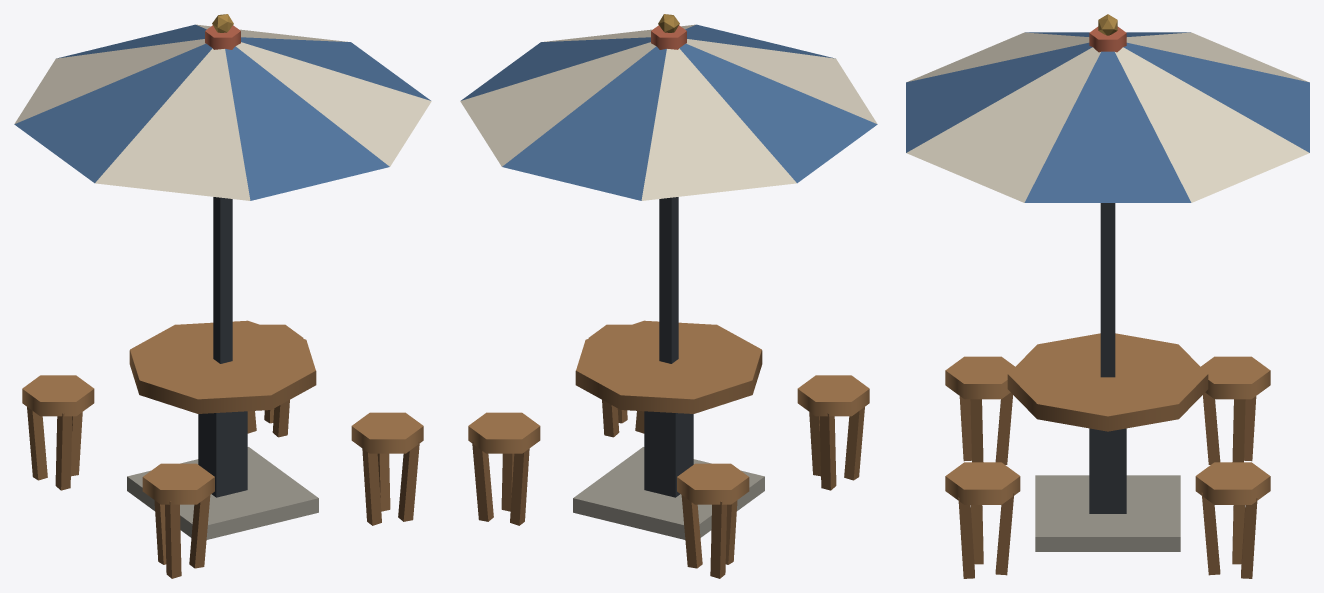
The model's file is parasol-table.glb.
3 views of the same model, side by side, from view 1: azimuth 30°, elevation 25°; view 2: azimuth 150°, elevation 25°; view 3: azimuth 270°, elevation 25° (orthographic). The views are drawn at different scales.
Parts seen in each view (by area): view 1: Merged_parasol-blue-panel, Merged_parasol-cream-panel, Merged_city-timber-light, Merged_city-timber, Merged_city-metal-dark, Merged_city-curb, Merged_prop-accent; view 2: Merged_parasol-blue-panel, Merged_parasol-cream-panel, Merged_city-timber-light, Merged_city-timber, Merged_city-metal-dark, Merged_city-curb, Merged_prop-accent; view 3: Merged_parasol-cream-panel, Merged_parasol-blue-panel, Merged_city-timber-light, Merged_city-timber, Merged_city-curb, Merged_city-metal-dark, Merged_prop-accent.
Boxes of the visible parts, x1,y1,x2,y2 form: Merged_parasol-blue-panel: (14,24,430,200); Merged_parasol-cream-panel: (14,24,431,200); Merged_city-timber-light: (22,320,423,504); Merged_city-timber: (27,350,419,578); Merged_city-metal-dark: (198,197,247,497); Merged_city-curb: (127,447,318,539); Merged_prop-accent: (205,25,240,49); Merged_parasol-blue-panel: (461,24,877,200); Merged_parasol-cream-panel: (460,24,877,200); Merged_city-timber-light: (468,320,869,504); Merged_city-timber: (472,350,864,578); Merged_city-metal-dark: (644,197,693,497); Merged_city-curb: (573,447,764,539); Merged_prop-accent: (651,25,686,49); Merged_parasol-cream-panel: (906,32,1309,202); Merged_parasol-blue-panel: (906,32,1309,202); Merged_city-timber-light: (945,333,1270,504); Merged_city-timber: (958,374,1257,578); Merged_city-curb: (1035,475,1180,551); Merged_city-metal-dark: (1089,203,1126,513); Merged_prop-accent: (1089,26,1126,52).
Size of what is drawn, in the model's own units: 1.94 by 2.68 by 1.94.
